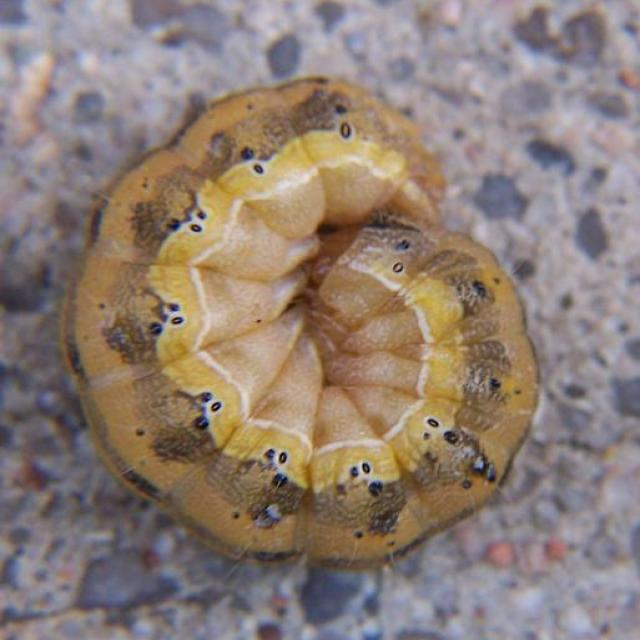Corn-earworm: (89, 72, 540, 568)
